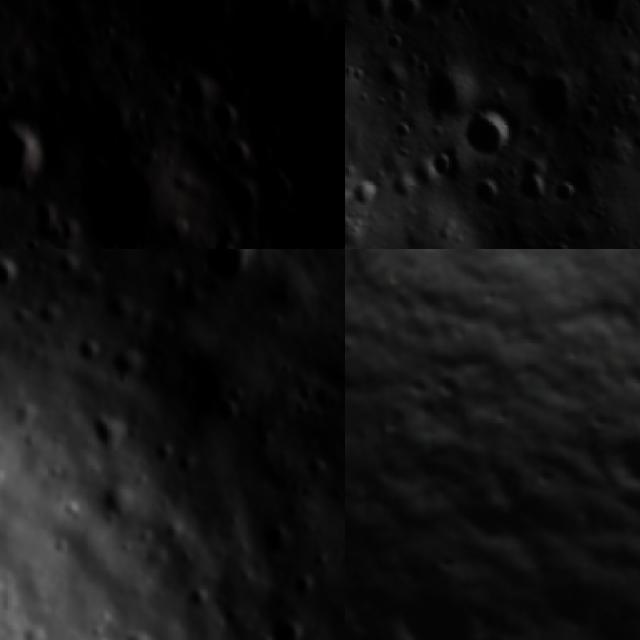crater: (350, 544, 503, 640), (81, 148, 190, 249), (575, 401, 640, 520), (0, 112, 61, 204), (523, 63, 580, 131), (458, 102, 512, 162), (422, 63, 481, 117), (95, 93, 147, 141), (226, 168, 268, 226), (173, 71, 224, 115), (198, 249, 257, 286), (246, 106, 288, 156), (36, 62, 72, 118), (567, 0, 624, 34), (88, 413, 130, 458), (508, 158, 548, 201), (259, 521, 301, 560), (212, 99, 246, 140), (390, 165, 424, 206), (108, 345, 147, 380), (412, 0, 466, 24), (347, 173, 378, 213), (423, 142, 455, 178), (350, 0, 389, 28), (71, 337, 104, 368), (263, 618, 309, 640), (546, 175, 577, 207), (0, 254, 22, 295), (472, 173, 498, 207), (384, 0, 413, 30), (290, 576, 323, 602), (210, 401, 242, 427), (377, 29, 405, 57), (312, 389, 340, 416), (289, 379, 320, 403), (386, 118, 412, 142), (118, 628, 159, 640), (543, 236, 577, 249), (515, 38, 530, 62)
